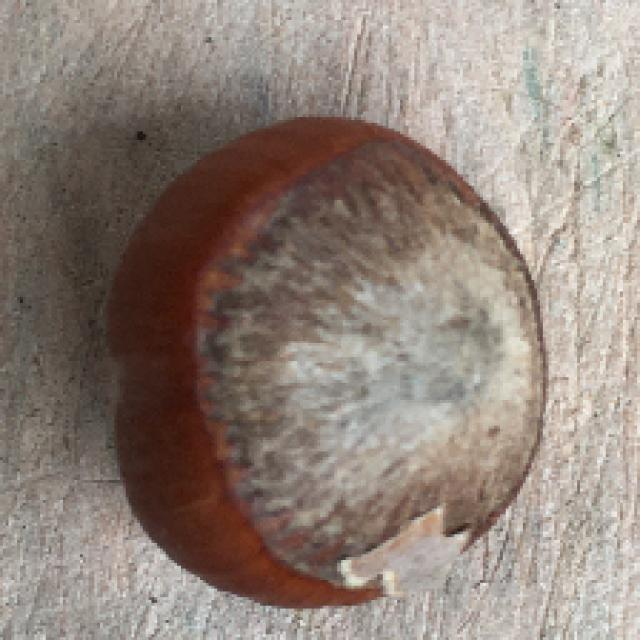damagedHazelnut: (94, 113, 548, 611)
